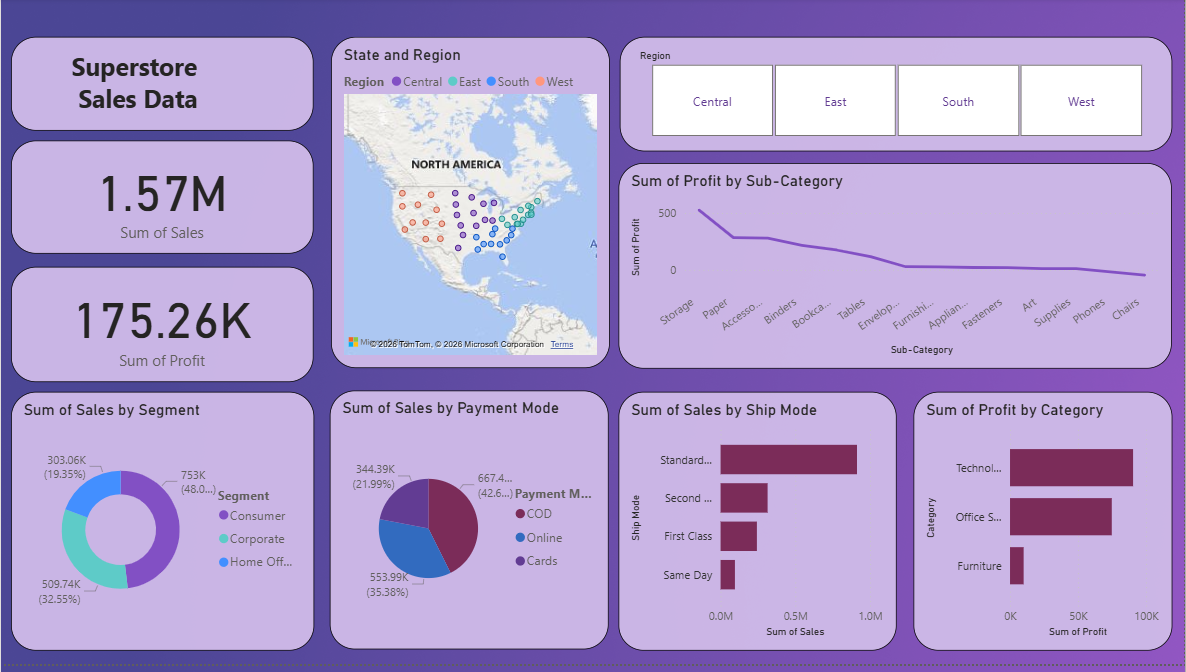

What the dashboard file says about the page in this screenshot:
{"tool":"powerbi","page":{"name":"Page 1","canvas":[1280,720],"ordinal":0},"visuals":[{"type":"barChart","fields":{"Category":["Sheet1.Category"],"Y":["Sum(Sheet1.Profit)"]},"box":[986.6,425.4,279.9,279.9],"z":0},{"type":"barChart","fields":{"Category":["Sheet1.Ship Mode"],"Y":["Sum(Sheet1.Sales)"]},"box":[668.3,425.4,300.5,279.9],"z":1000},{"type":"lineChart","fields":{"Category":["Sheet1.Sub-Category"],"Y":["Sum(Sheet1.Profit)"]},"box":[668.3,178.4,598.3,222.3],"z":2000},{"type":"pieChart","fields":{"Category":["Sheet1.Payment Mode"],"Y":["Sum(Sheet1.Sales)"]},"box":[355,425,301.2,280],"z":3000},{"type":"donutChart","fields":{"Category":["Sheet1.Segment"],"Y":["Sum(Sheet1.Sales)"]},"box":[11,425.4,328,279.9],"z":4000},{"type":"slicer","fields":{"Values":["Sheet1.Region"]},"box":[668.8,42.5,597.5,123.8],"z":5000},{"type":"map","fields":{"Category":["Sheet1.State"],"Series":["Sheet1.Region"]},"box":[356.2,42.5,301.2,358.8],"z":6000},{"type":"card","fields":{"Values":["Sum(Sheet1.Profit)"]},"box":[11.2,290,327.5,125],"z":7000},{"type":"card","fields":{"Values":["Sum(Sheet1.Sales)"]},"box":[11.2,153.8,327.5,122.5],"z":8000},{"type":"textbox","box":[11.2,42.5,327.5,101.2],"z":9000}]}

Visuals, with their boxes in screenshot pixels (x1, y1, x2, y2), scaled from the page's 1280x720 canvas onto the 1186x672 screenshot:
barChart - Sheet1.Category x Sum(Sheet1.Profit): [left=914, top=397, right=1173, bottom=658]
barChart - Sheet1.Ship Mode x Sum(Sheet1.Sales): [left=619, top=397, right=898, bottom=658]
lineChart - Sheet1.Sub-Category x Sum(Sheet1.Profit): [left=619, top=167, right=1174, bottom=374]
pieChart - Sheet1.Payment Mode x Sum(Sheet1.Sales): [left=329, top=397, right=608, bottom=658]
donutChart - Sheet1.Segment x Sum(Sheet1.Sales): [left=10, top=397, right=314, bottom=658]
slicer - Sheet1.Region: [left=620, top=40, right=1173, bottom=155]
map - Sheet1.State x Sheet1.Region: [left=330, top=40, right=609, bottom=375]
card - Sum(Sheet1.Profit): [left=10, top=271, right=314, bottom=387]
card - Sum(Sheet1.Sales): [left=10, top=144, right=314, bottom=258]
textbox: [left=10, top=40, right=314, bottom=134]
